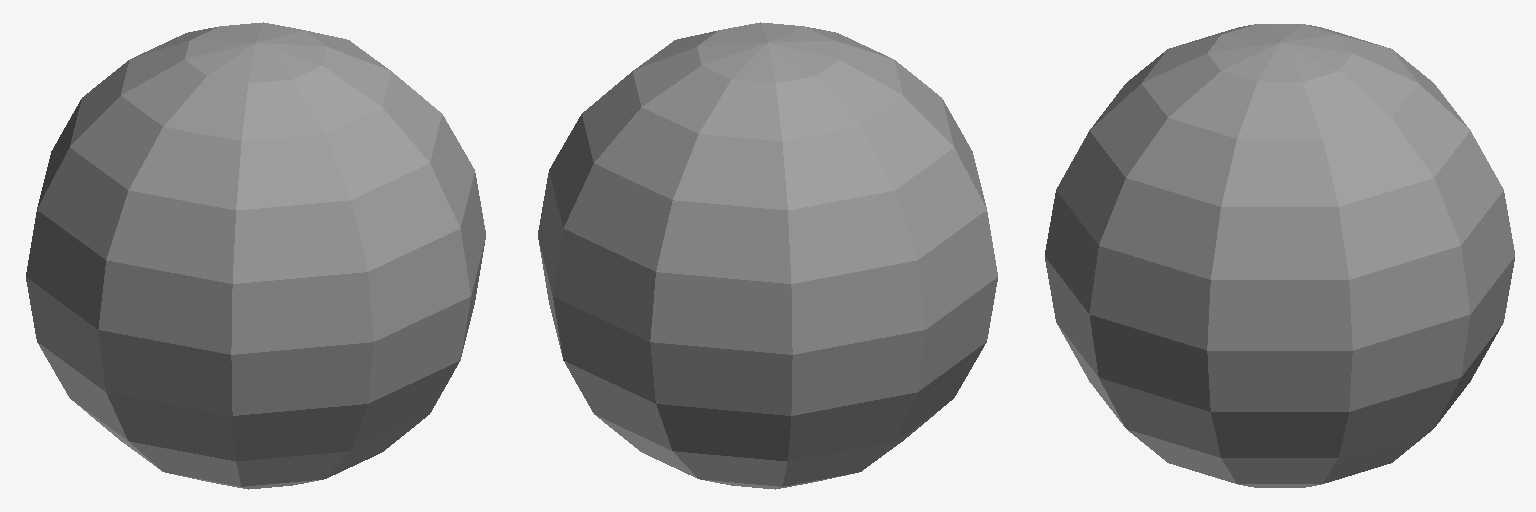
Rendered from earth.obj.
3 views of the same model, side by side, from view 1: azimuth 30°, elevation 25°; view 2: azimuth 150°, elevation 25°; view 3: azimuth 270°, elevation 25° (orthographic).
Size of the model in its own units: 1.14 by 1.2 by 1.2.